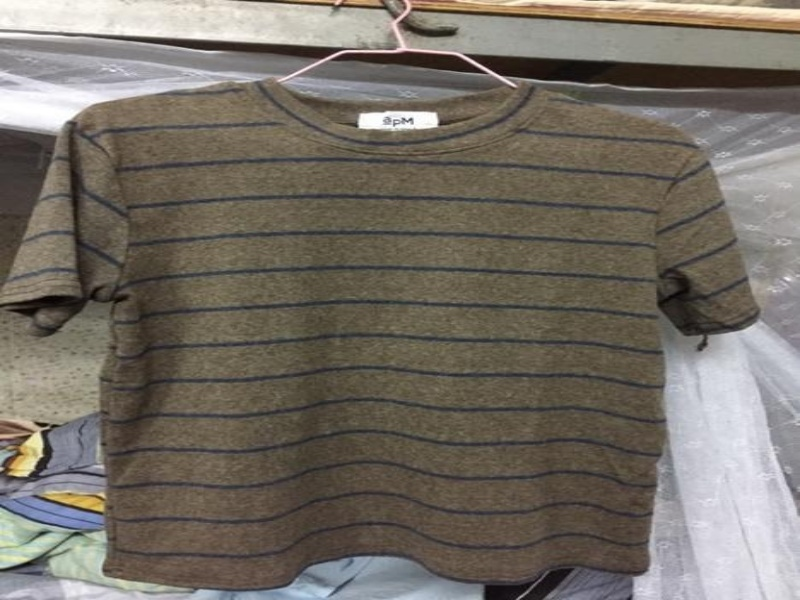short_sleeved_shirt: (2, 75, 764, 595)
